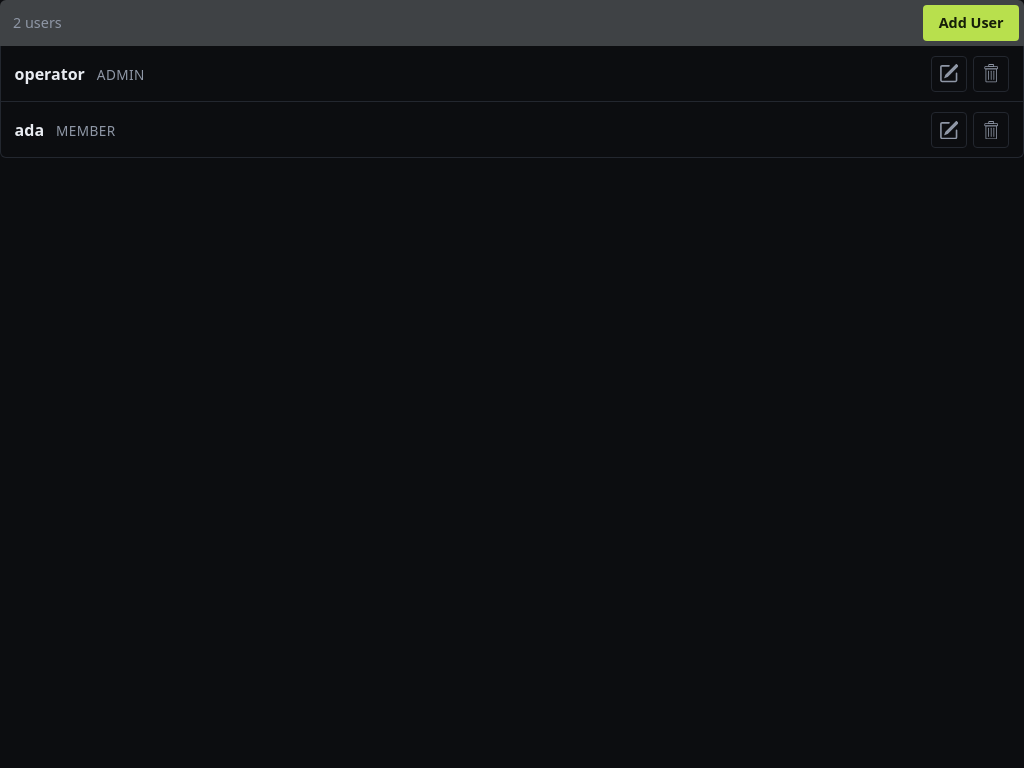
Scenario: AdminUsersScreen — deleting a user › asks to confirm, deletes, and removes the row
The image size is (1024, 768).
Click the 2nd button with test id "delete-user-button" at x=991, y=130, box [973,112,1009,148]
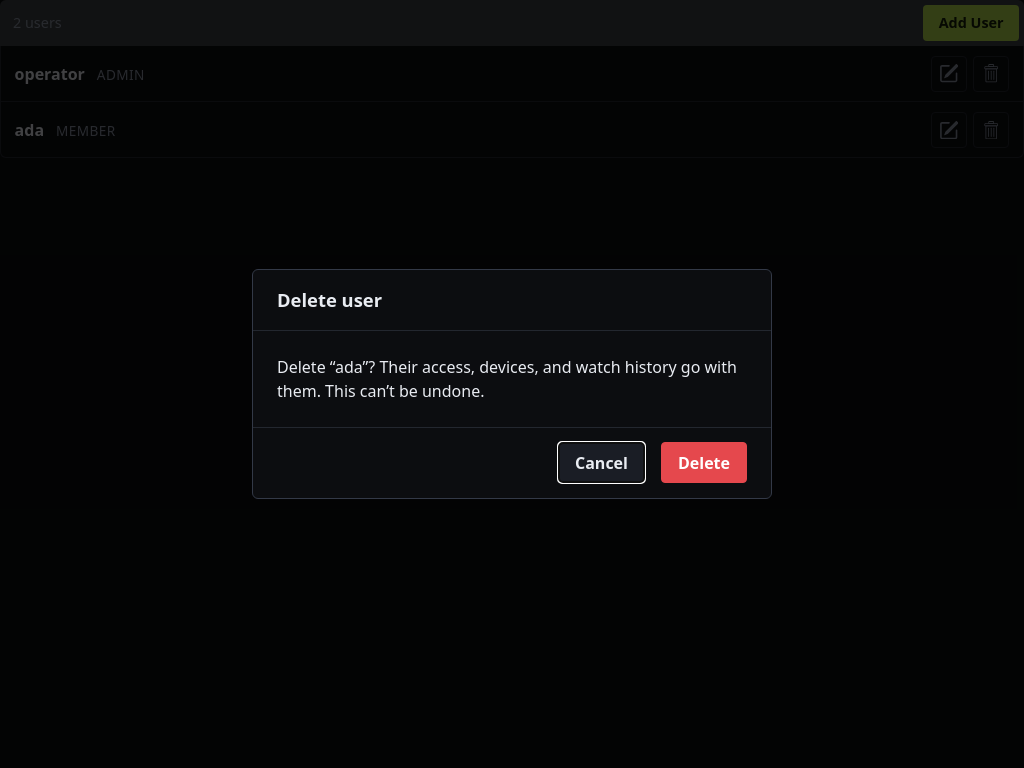
Expected: the text with test id "confirm-dialog-message" shows "ada", [277,356,737,402]
Click the button with test id "confirm-dialog-confirm" at x=704, y=463, box [661,442,747,483]
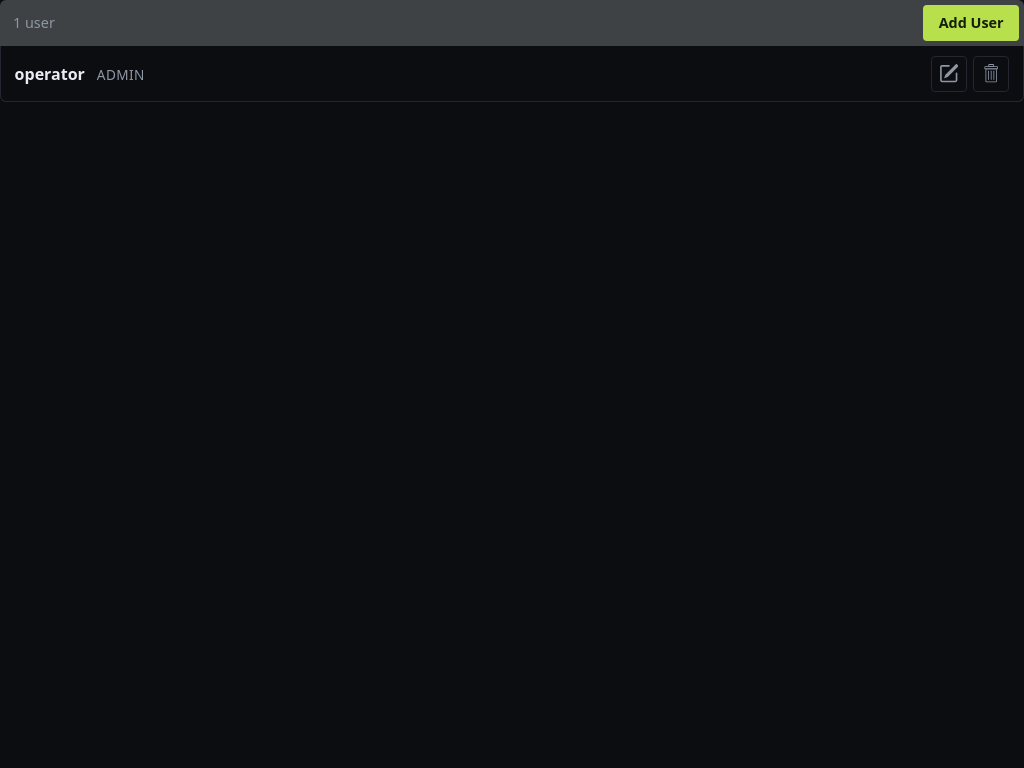
Expected: the text "operator" is shown, [15,62,85,86]
Expected: the text "ada" is gone
Expected: the dialog with test id "confirm-dialog" is gone
